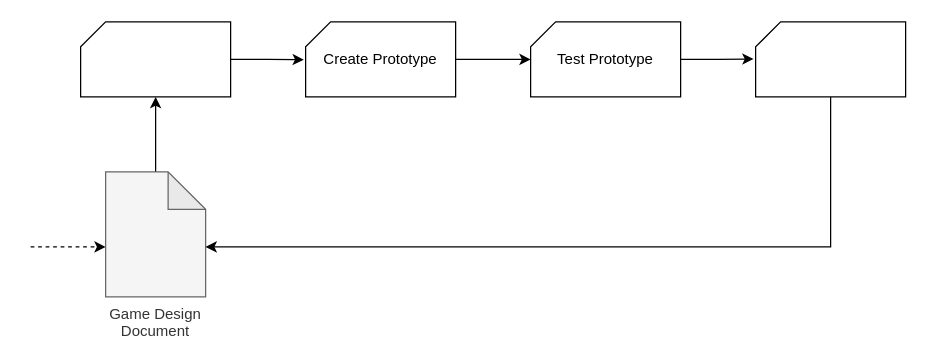
Image size: 928x364. Some labels were removed from this diagram. Here are the shapes that lost their labels. From the top down, the centre of each, then its label:
At point (155, 59): "Define Risks".
At point (830, 59): "Refine Design".
